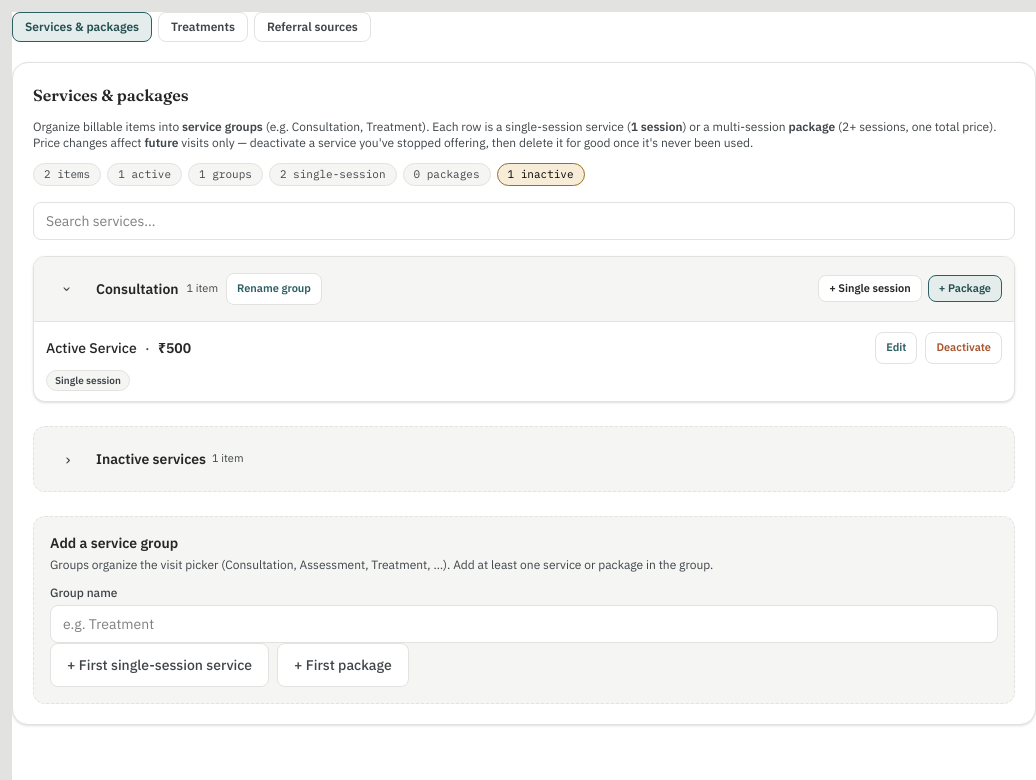
ServiceCatalog — active vs. inactive separation › keeps active items in their group and inactive ones in their own collapsed section, with no redundant badge
Check: the text "Active Service" is shown, box top-left (46, 338), bottom-right (137, 358)
Check: the text "Retired Service" is not shown
Click the button named "Expand inactive services" at (68, 458), box top-left (46, 436), bottom-right (90, 480)
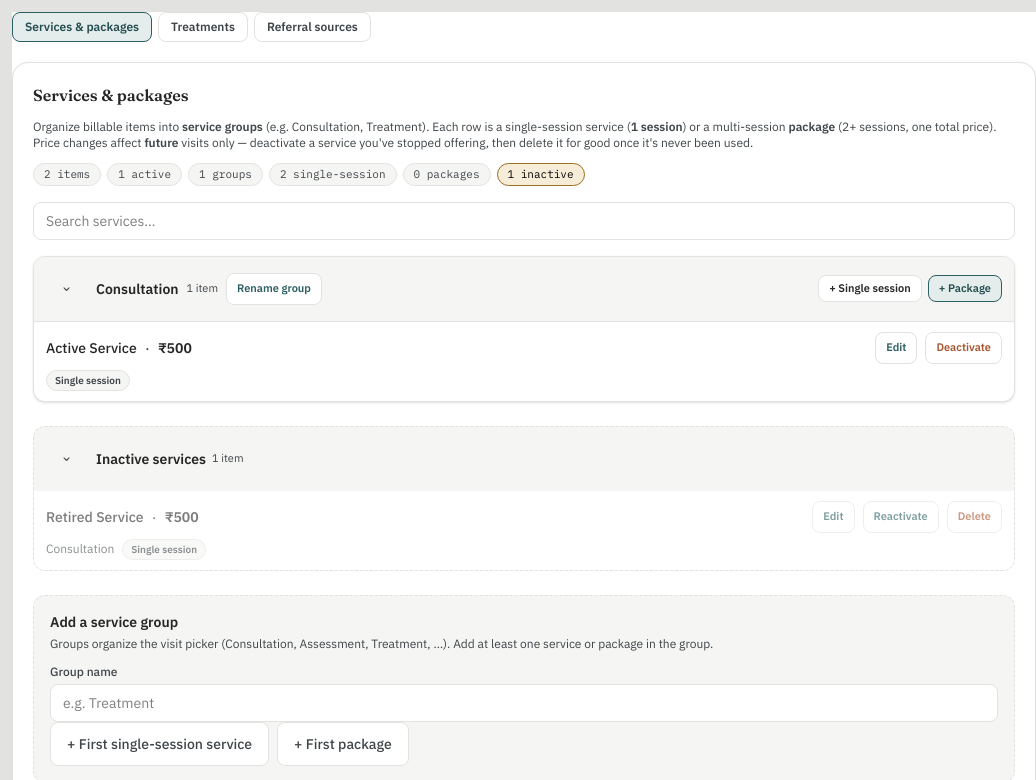
Check: the text "Retired Service" is shown, box top-left (46, 506), bottom-right (144, 526)
